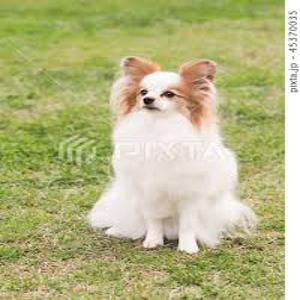yell: (90, 55, 255, 252)
